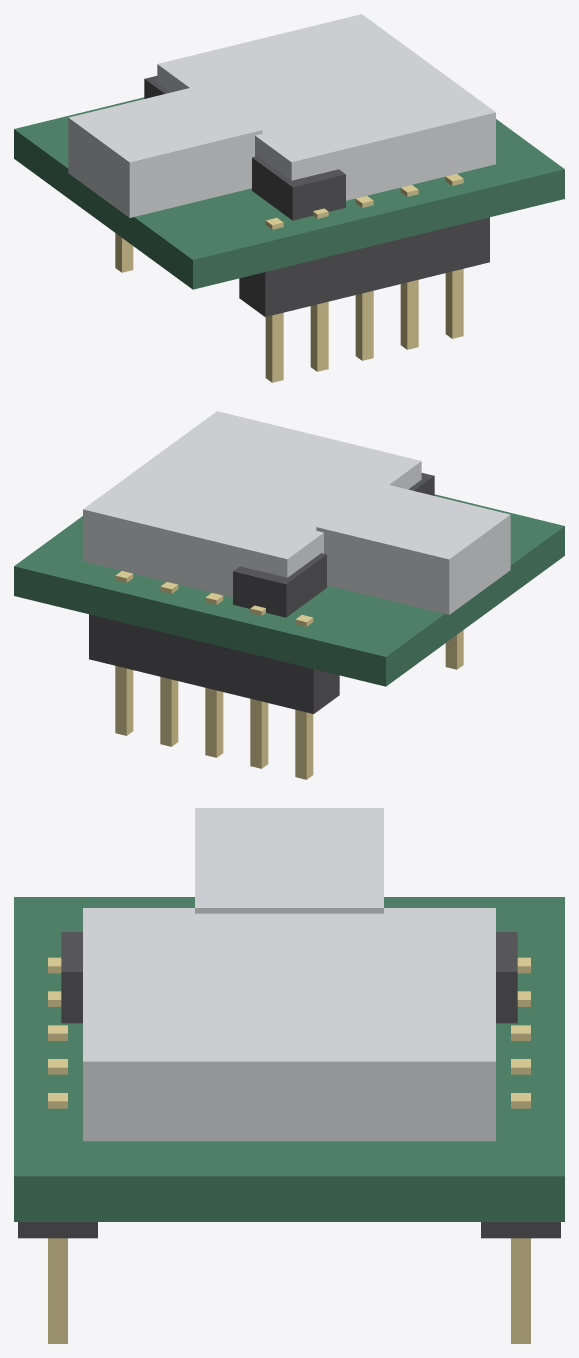
Rendered from xiao-esp32s3.glb.
3 views of the same model, one above another, from view 1: azimuth 30°, elevation 25°; view 2: azimuth 150°, elevation 25°; view 3: azimuth 270°, elevation 25° (orthographic). The views are drawn at different scales.
Parts seen in each view (by area): view 1: xiao-esp32s3-metal, xiao-esp32s3-pcb, xiao-esp32s3-plastic, xiao-esp32s3-pins; view 2: xiao-esp32s3-metal, xiao-esp32s3-pcb, xiao-esp32s3-plastic, xiao-esp32s3-pins; view 3: xiao-esp32s3-metal, xiao-esp32s3-pcb, xiao-esp32s3-pins, xiao-esp32s3-plastic.
Boxes of the visible parts, x1=… form: xiao-esp32s3-metal: x1=68, y1=14, x2=495, y2=217; xiao-esp32s3-pcb: x1=14, y1=97, x2=564, y2=289; xiao-esp32s3-plastic: x1=144, y1=76, x2=489, y2=316; xiao-esp32s3-pins: x1=115, y1=174, x2=463, y2=382; xiao-esp32s3-metal: x1=83, y1=411, x2=510, y2=614; xiao-esp32s3-pcb: x1=14, y1=494, x2=564, y2=686; xiao-esp32s3-plastic: x1=89, y1=473, x2=434, y2=713; xiao-esp32s3-pins: x1=115, y1=571, x2=463, y2=779; xiao-esp32s3-metal: x1=83, y1=808, x2=495, y2=1141; xiao-esp32s3-pcb: x1=14, y1=897, x2=564, y2=1221; xiao-esp32s3-pins: x1=48, y1=957, x2=530, y2=1343; xiao-esp32s3-plastic: x1=18, y1=932, x2=560, y2=1238.
Bounding box in the file's own units: 0.0213 × 0.0112 × 0.0175.
